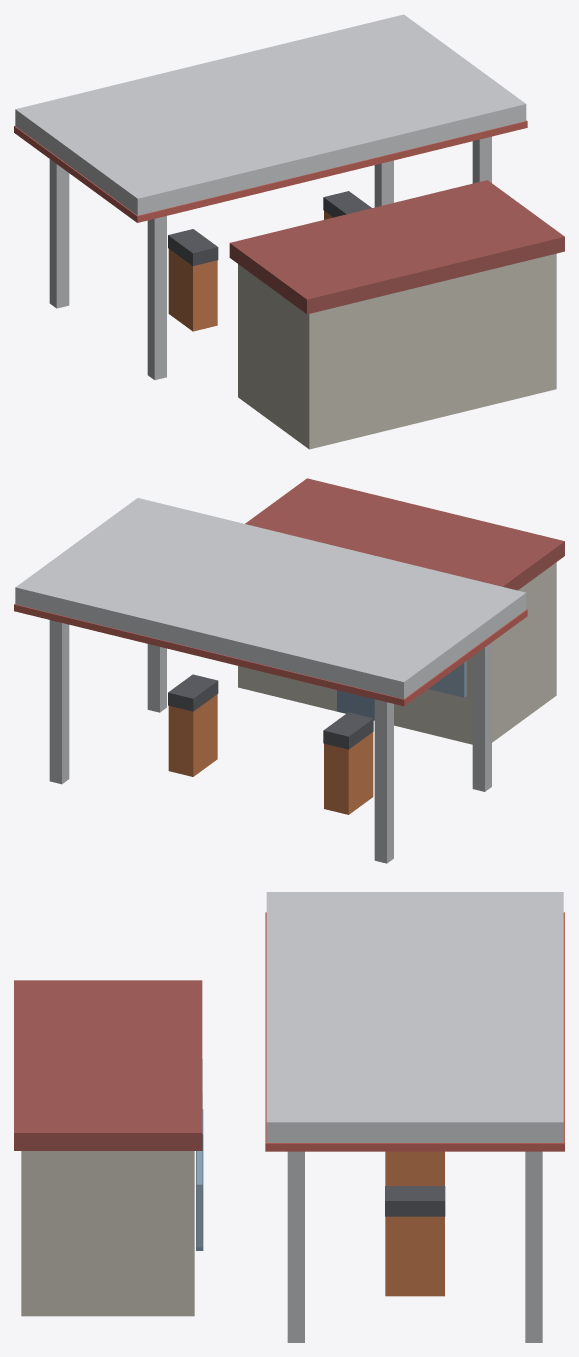
File: gas_station.glb
3 views of the same model, one above another, from view 1: azimuth 30°, elevation 25°; view 2: azimuth 150°, elevation 25°; view 3: azimuth 270°, elevation 25° (orthographic). The views are drawn at different scales.
Visible parts, largest first — view 1: gas_station; view 2: gas_station; view 3: gas_station.
Part boxes in pixels (x1,y1,x2,y2): gas_station: (14,14,564,449); gas_station: (14,478,564,863); gas_station: (14,892,564,1342).
Size of the model in its own units: 11.05 by 5.25 by 11.13.
